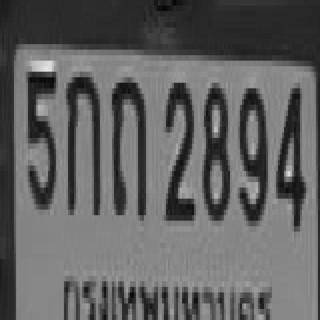A01: (64, 66, 100, 210)
A22: (110, 72, 144, 215)
N02: (164, 77, 192, 215)
N04: (274, 77, 304, 226)
N05: (26, 66, 54, 204)
N08: (202, 77, 228, 215)
N09: (238, 83, 266, 221)
